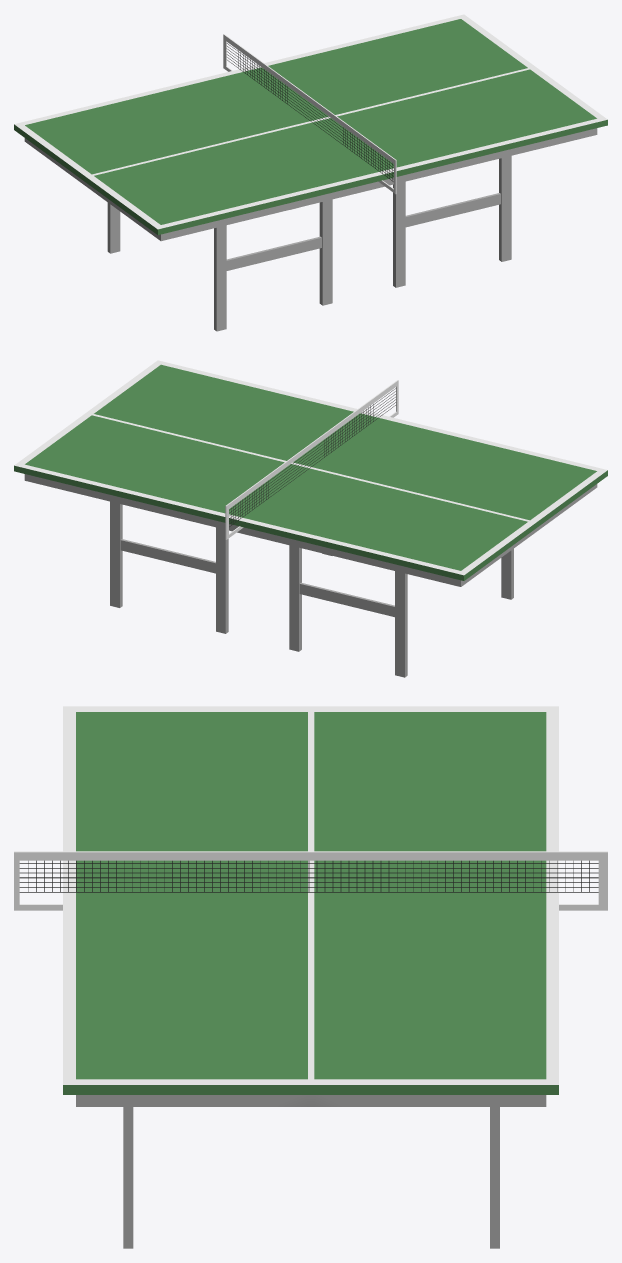
The model's file is table.glb.
The picture shows the model from 3 angles, top to bottom: view 1: azimuth 30°, elevation 25°; view 2: azimuth 150°, elevation 25°; view 3: azimuth 270°, elevation 25°; orthographic projection. The views are drawn at different scales.
Visible parts, largest first — view 1: table; view 2: table; view 3: table.
Part boxes in pixels (x1,y1,x2,y2): table: (14, 14, 607, 331); table: (14, 360, 607, 677); table: (14, 706, 607, 1248).
Bounding box in the file's own units: 2.21 × 0.7446 × 1.47.
Materials: 1 (1 with a texture image).
